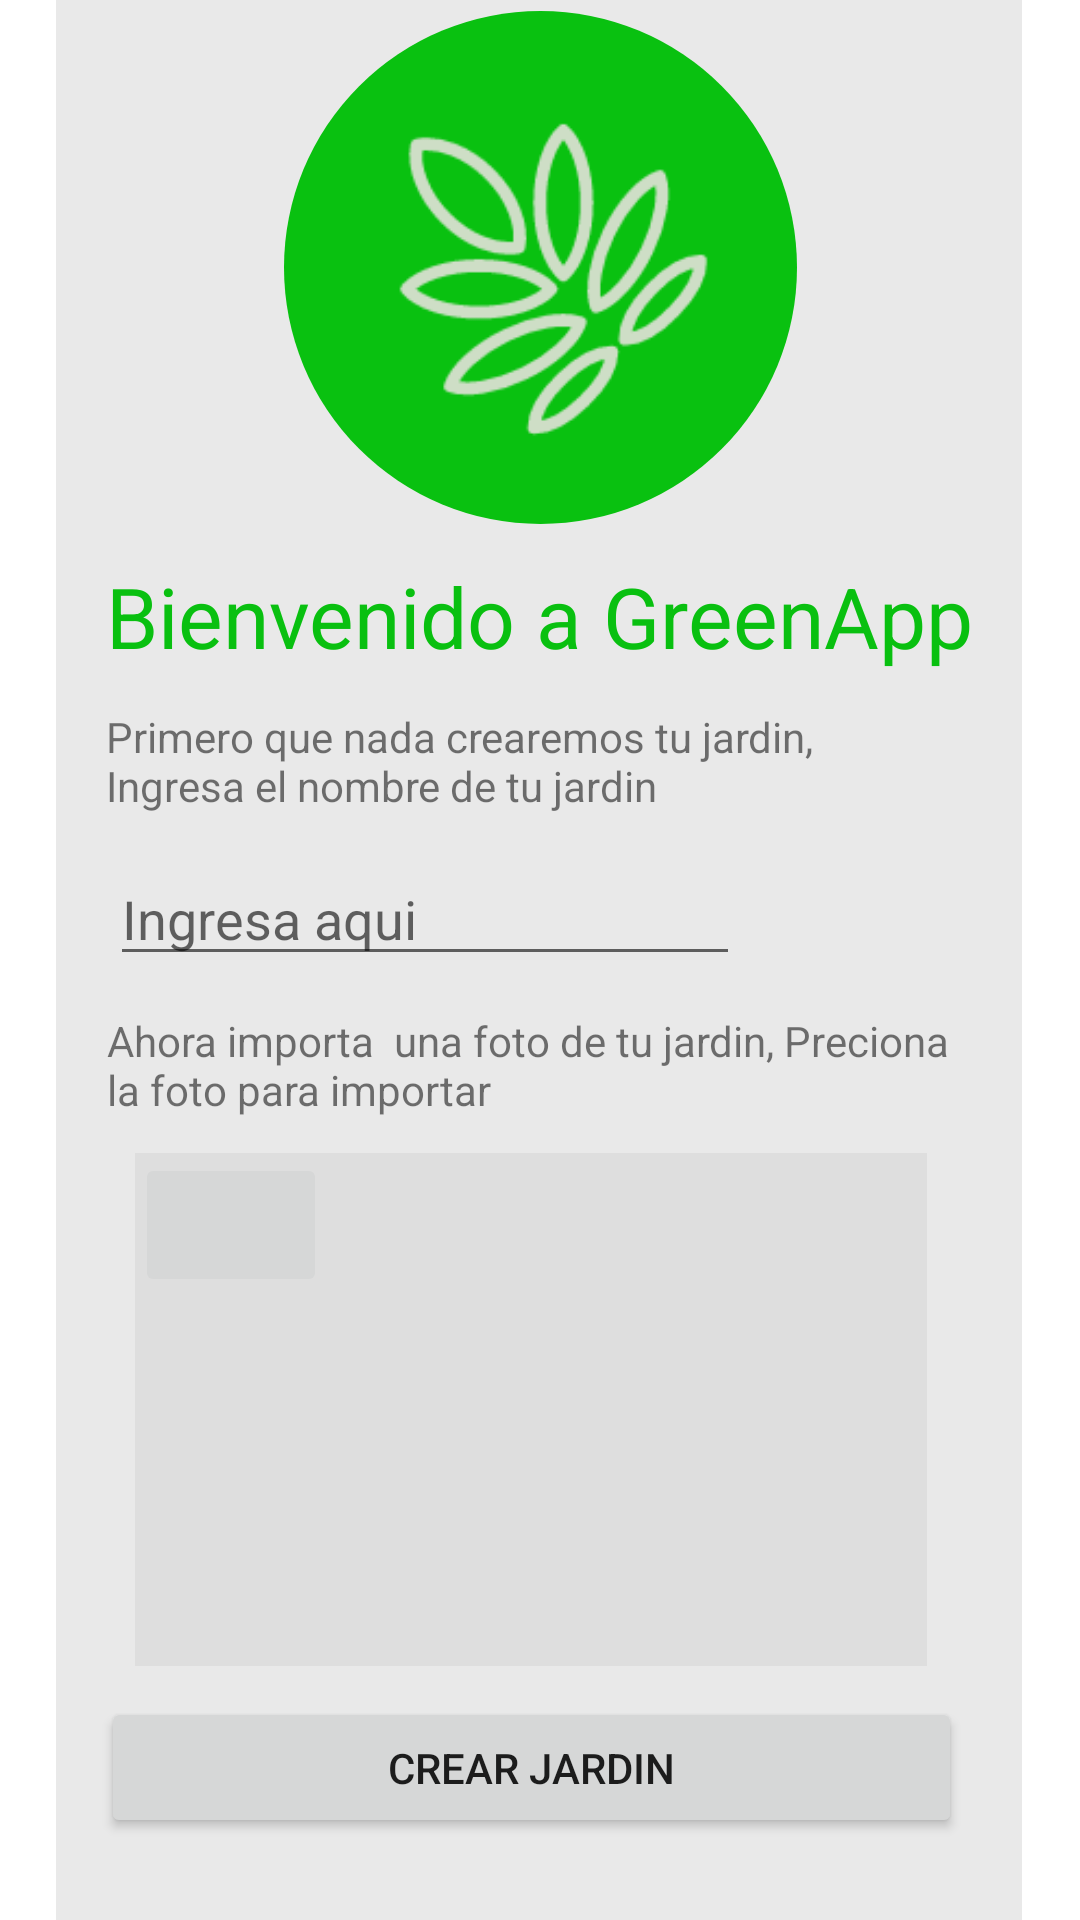

Icons on this 1080w x 1920h Android screen, each with its box as (x1,y1,x2,y2):
grain: (399,123,708,435)
